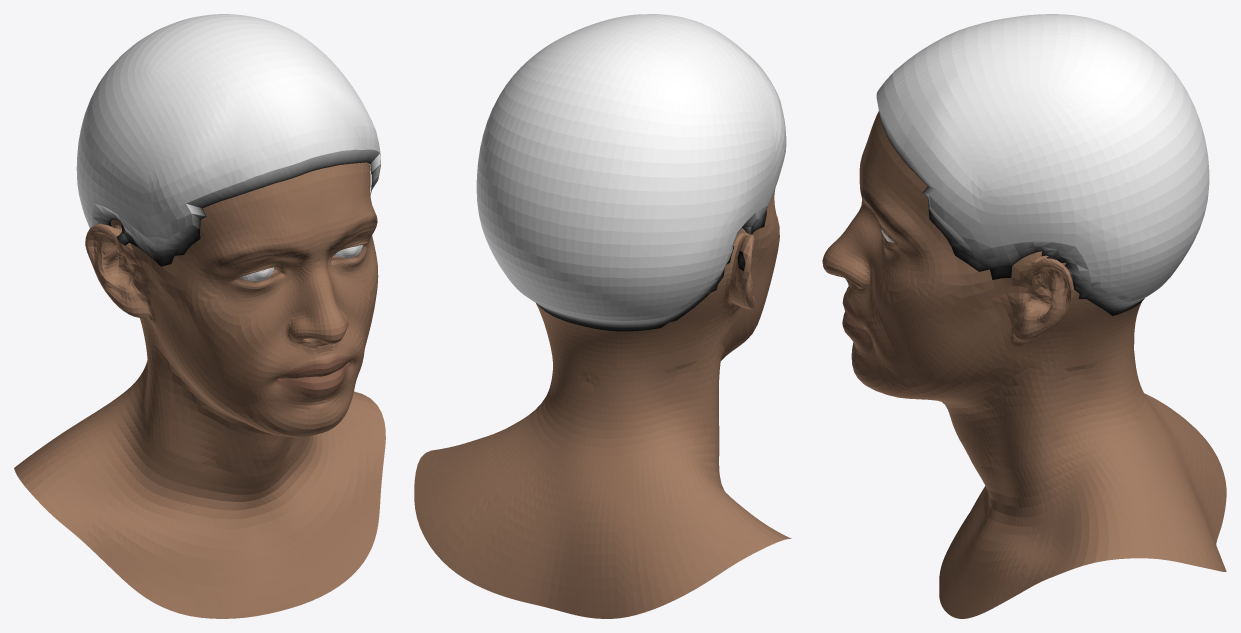
File: rinku.glb
3 renders of one model, left to right at view 1: azimuth 30°, elevation 25°; view 2: azimuth 150°, elevation 25°; view 3: azimuth 270°, elevation 25°, orthographic. The views are drawn at different scales.
Parts seen in each view (by area): view 1: gnm_head; view 2: gnm_head; view 3: gnm_head.
Part boxes in pixels (x1,y1,x2,y2): gnm_head: (14, 14, 385, 618); gnm_head: (414, 14, 791, 618); gnm_head: (822, 14, 1226, 618).
Size of the model in its own units: 0.2426 by 0.3622 by 0.2366.
